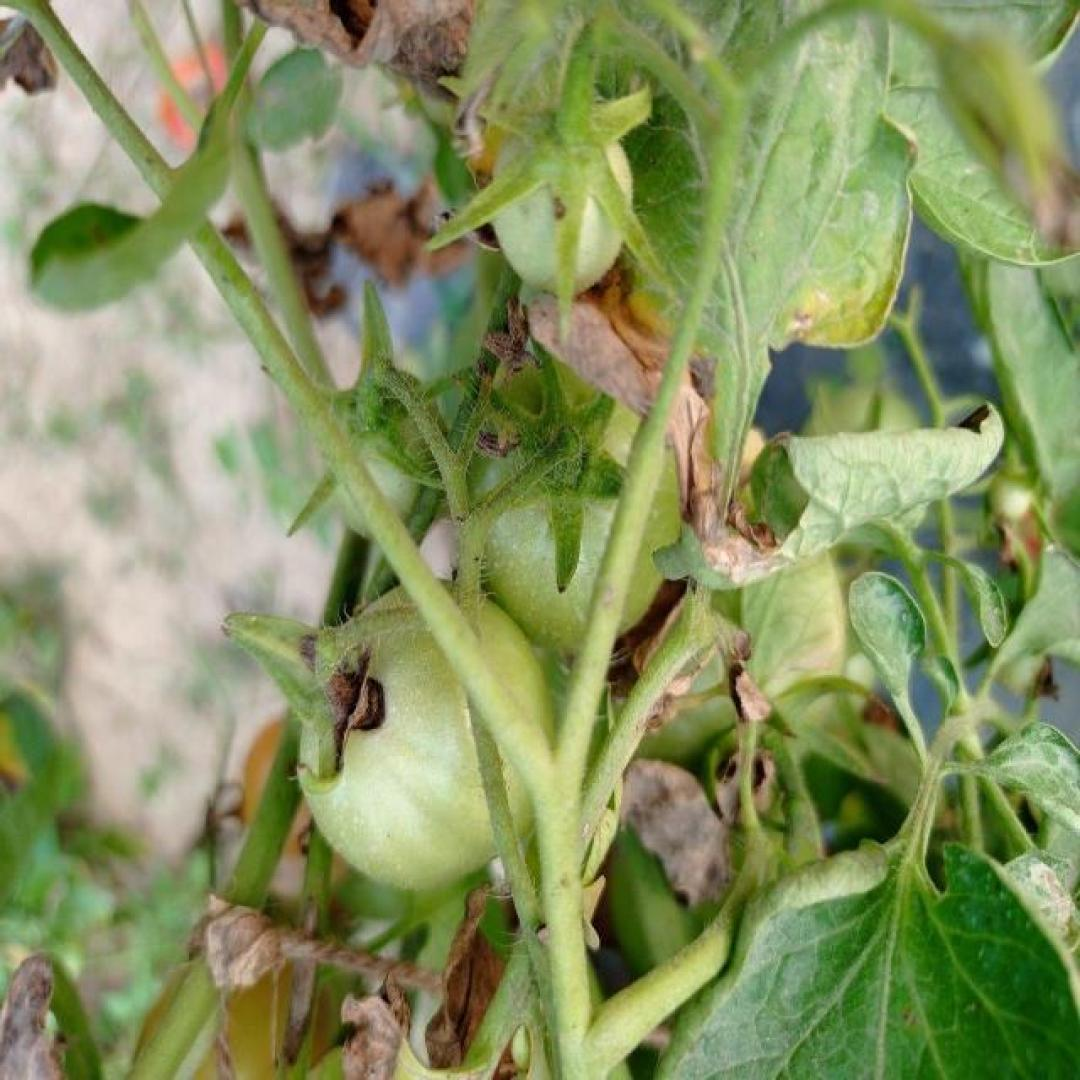mentah: (295, 574, 555, 892), (457, 304, 690, 658)
